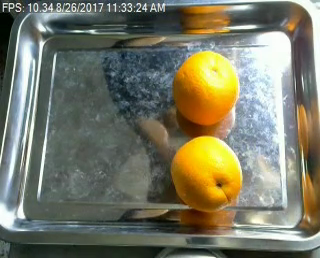Orange: (170, 135, 242, 212), (173, 49, 239, 123)
